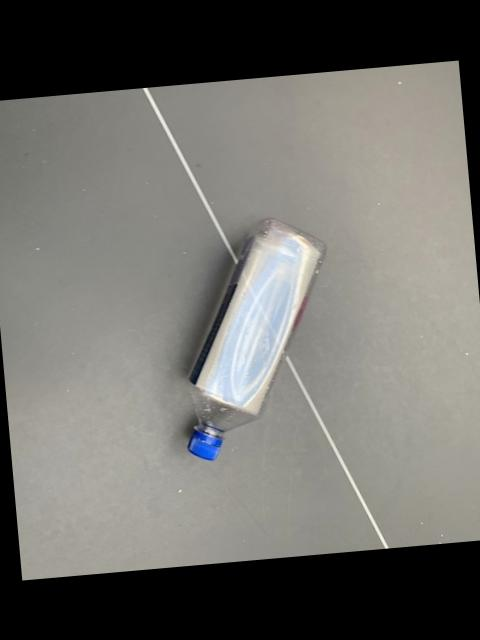plastic: (189, 217, 325, 457)
